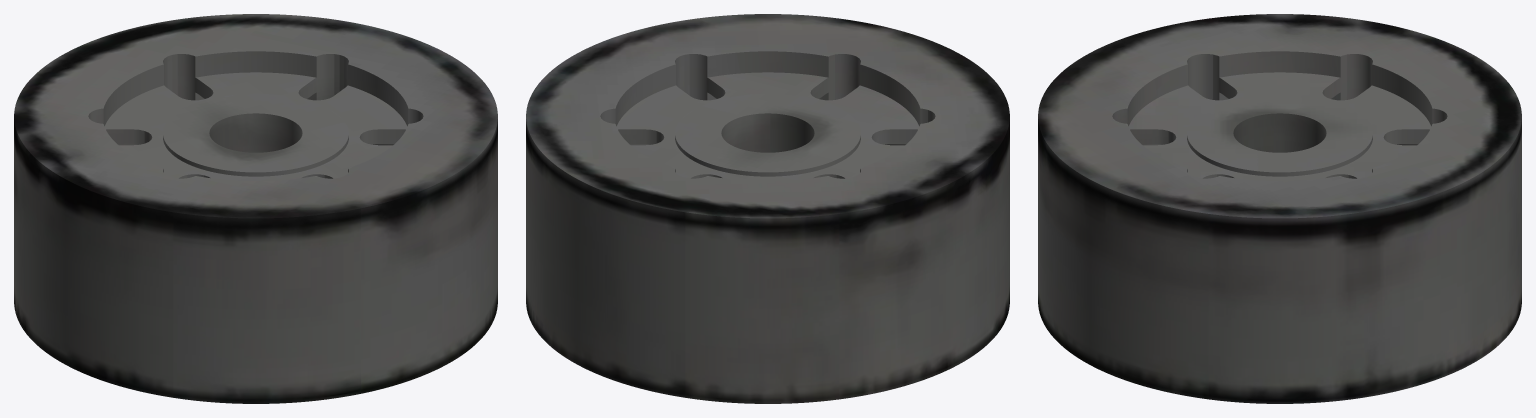
The model's file is wheel_0__rim.glb.
The picture shows the model from 3 angles, left to right: view 1: azimuth 30°, elevation 25°; view 2: azimuth 150°, elevation 25°; view 3: azimuth 270°, elevation 25°; orthographic projection.
Visible parts, largest first — view 1: world; view 2: world; view 3: world.
Part boxes in pixels (<box>): world: <box>14,14,497,403</box>; world: <box>526,14,1009,403</box>; world: <box>1038,14,1521,403</box>.
Size of the model in its own units: 0.104 by 0.044 by 0.104.
1 material, 1 textured.
